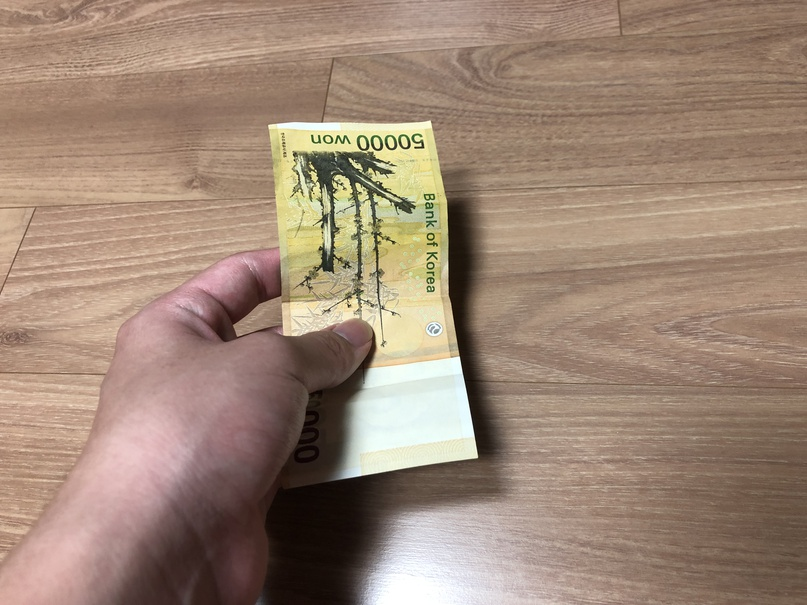50000won: (268, 122, 480, 490)
